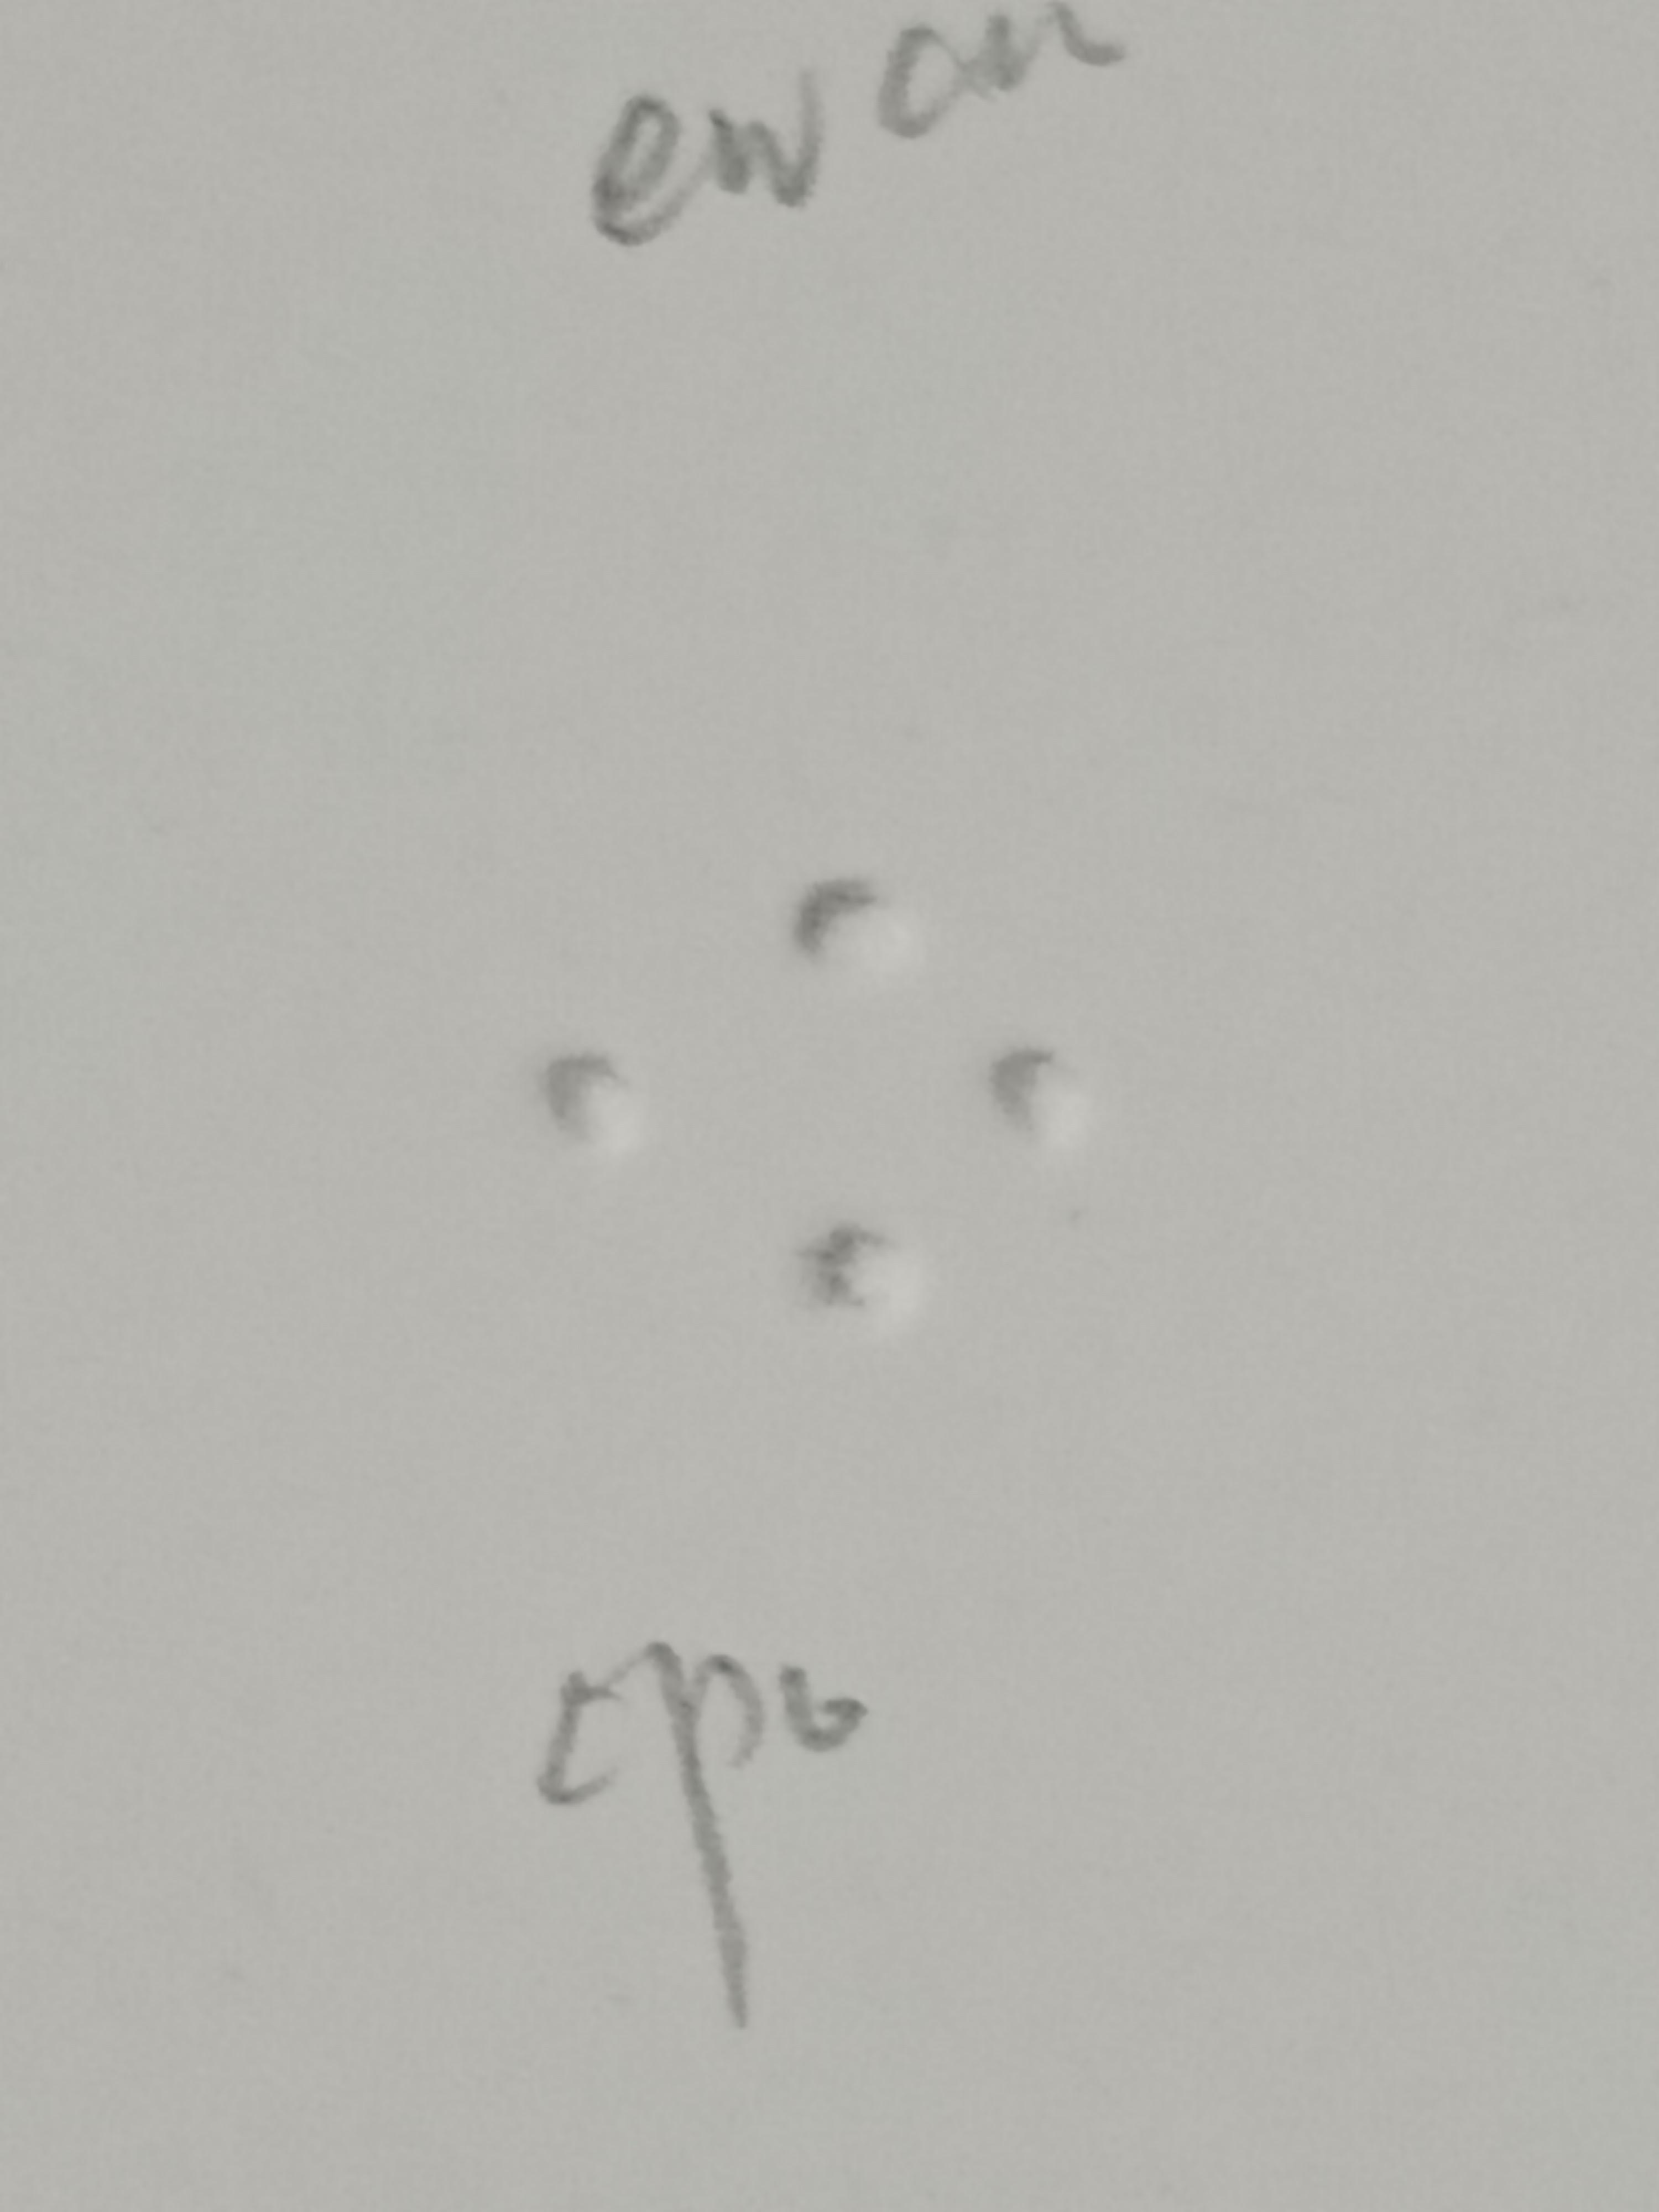dot_5: (340, 848, 655, 1331)
two_cell_alphabet_opo: (786, 853, 1101, 1334)
